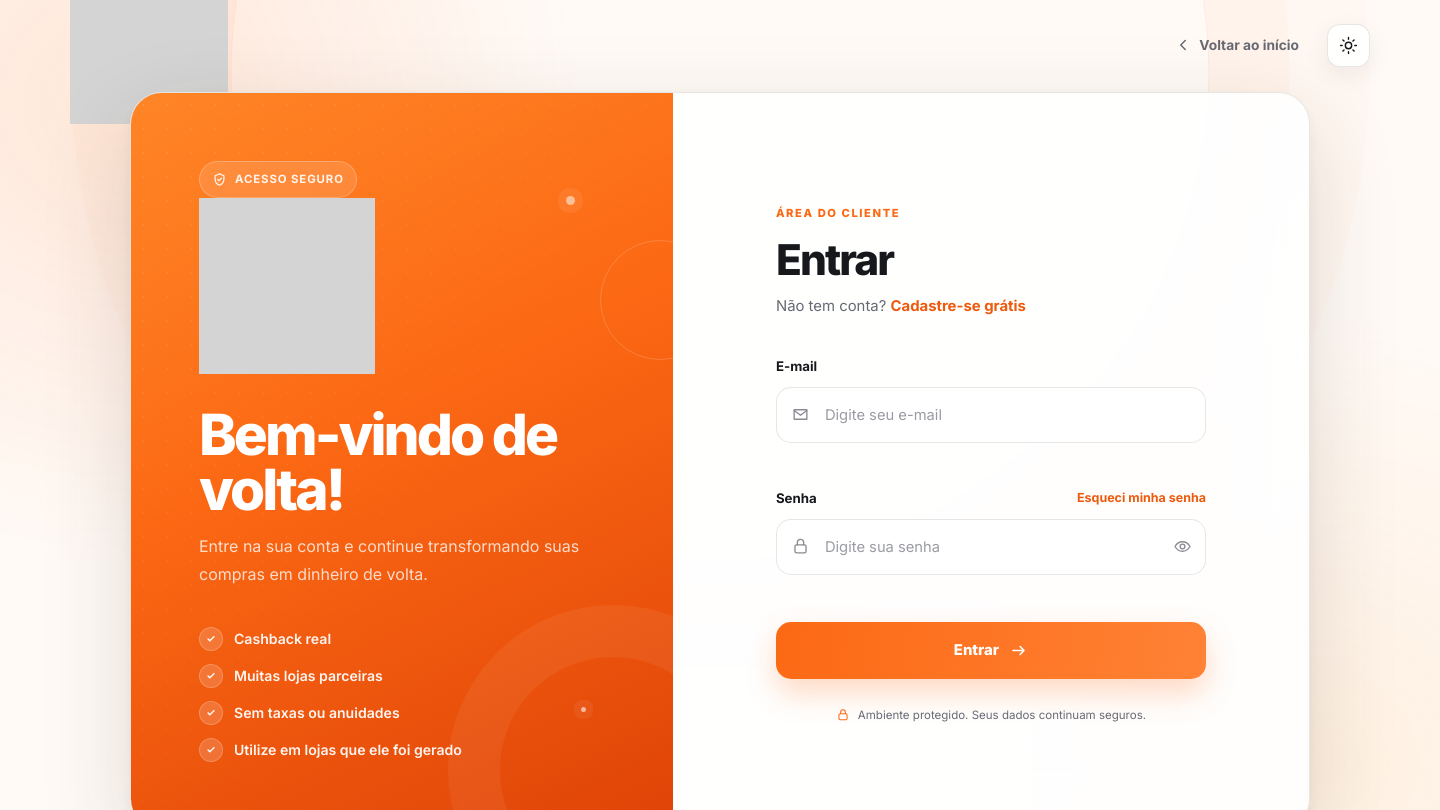
Test: experiência de login › exibe a mensagem devolvida pelo backend sem perder o formulário
The width and height of the screenshot is (1440, 810).
Type "pessoa@exemplo.com" into the field labelled "E-mail" at point(1015, 415), box 825,388 -> 1205,442
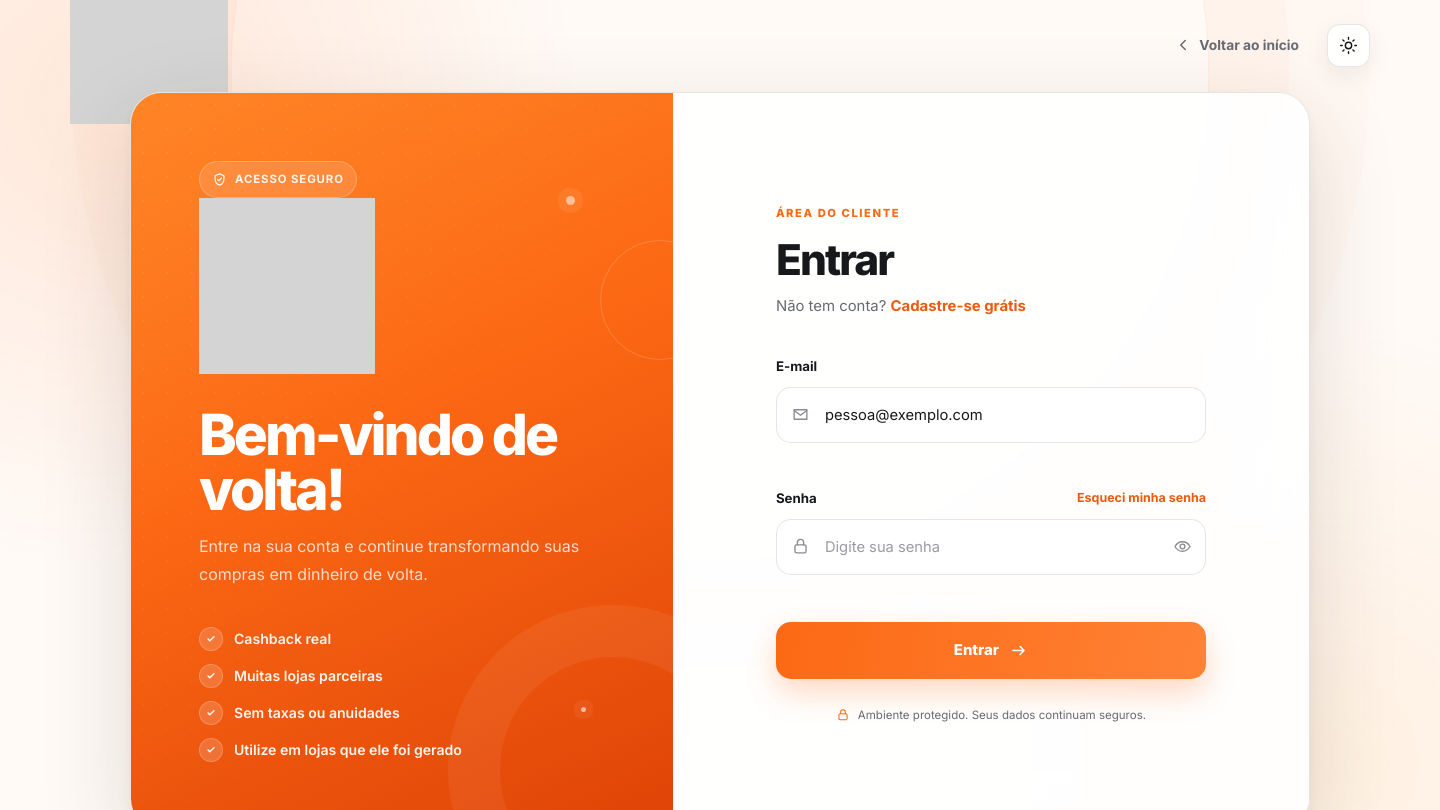
Type "senha-incorreta" into the password field labelled "Senha" at point(992, 547), box 825,520 -> 1160,574
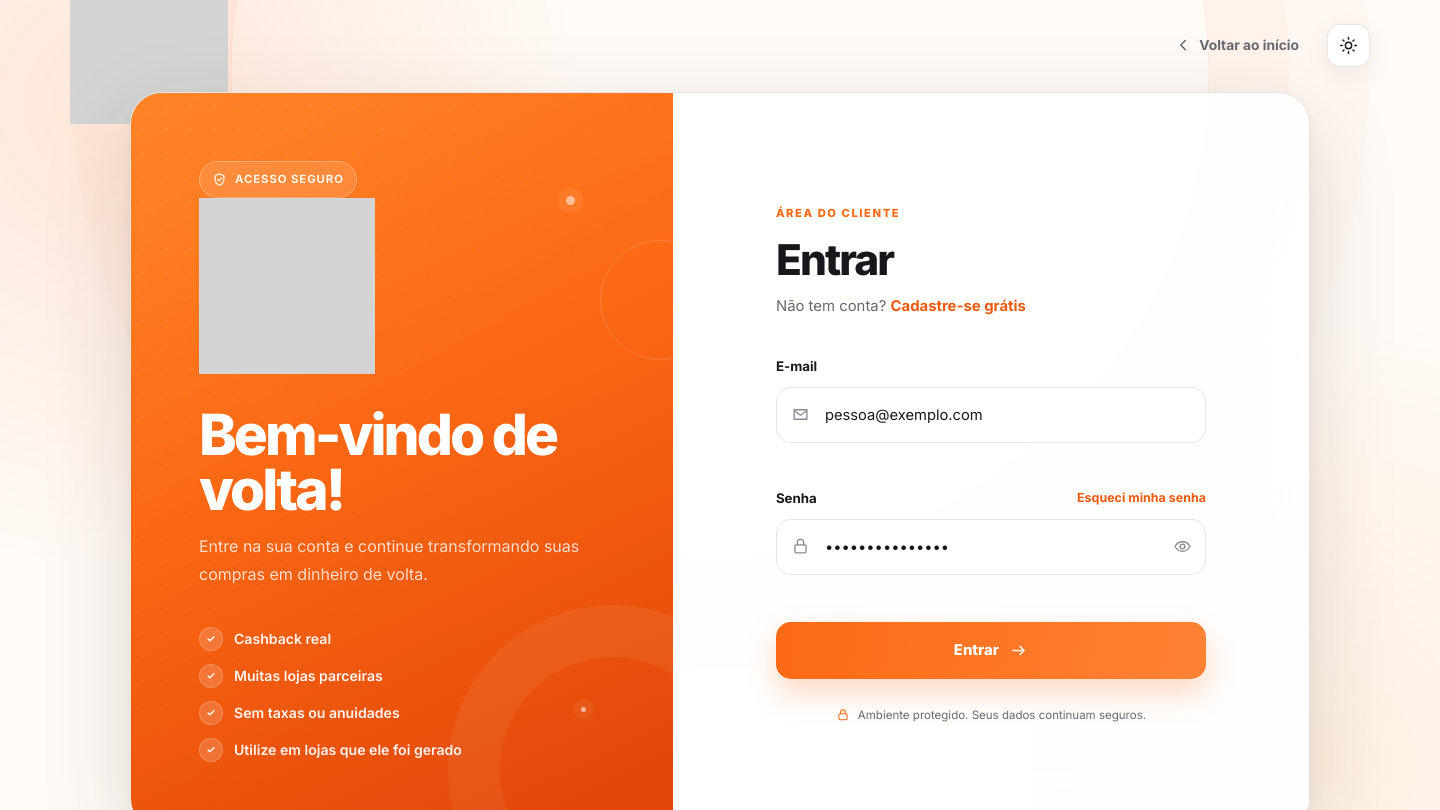
Click the button "Entrar" at point(991, 650), box 776,622 -> 1206,679
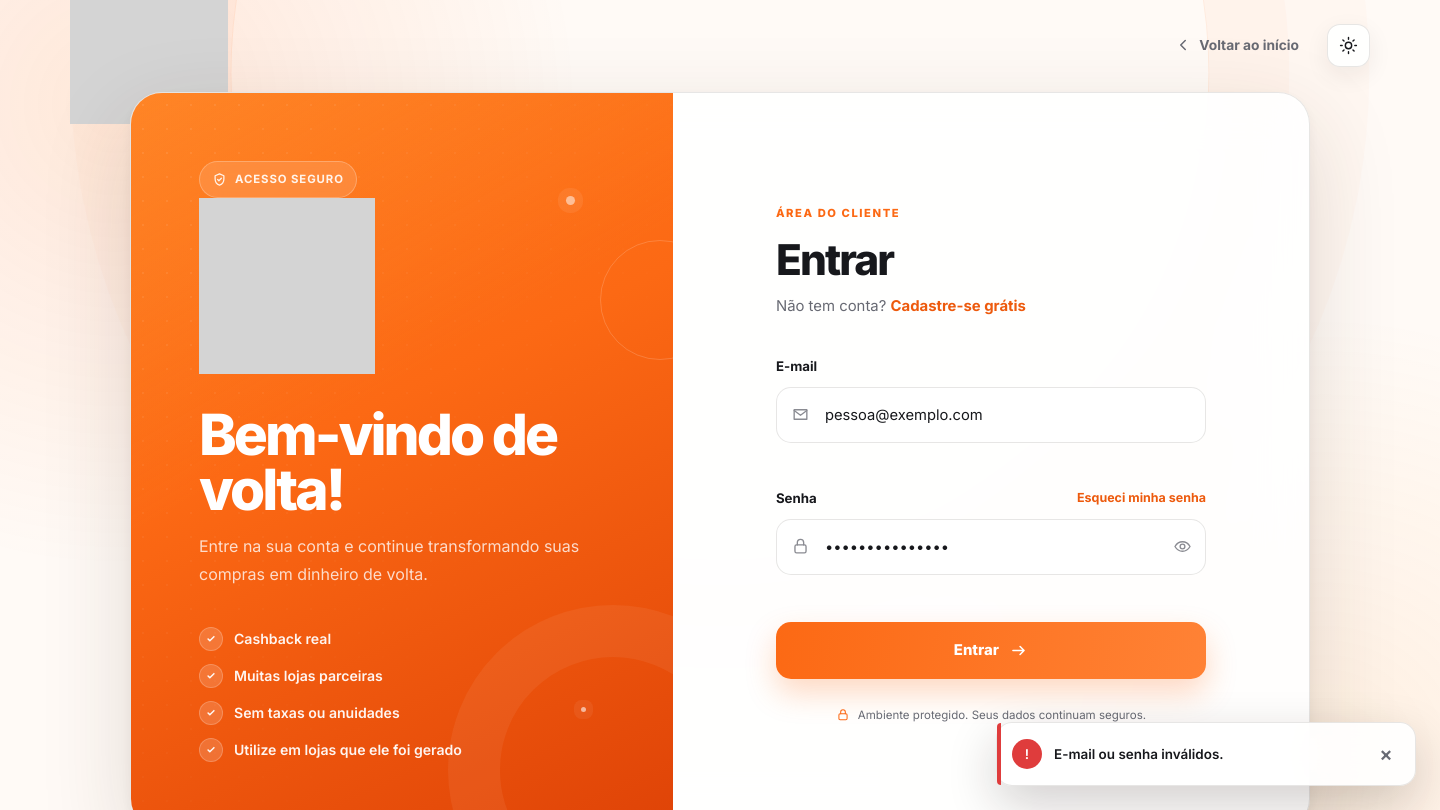
Result: the message shows "E-mail ou senha inválidos." at 1054,746 -> 1224,762
